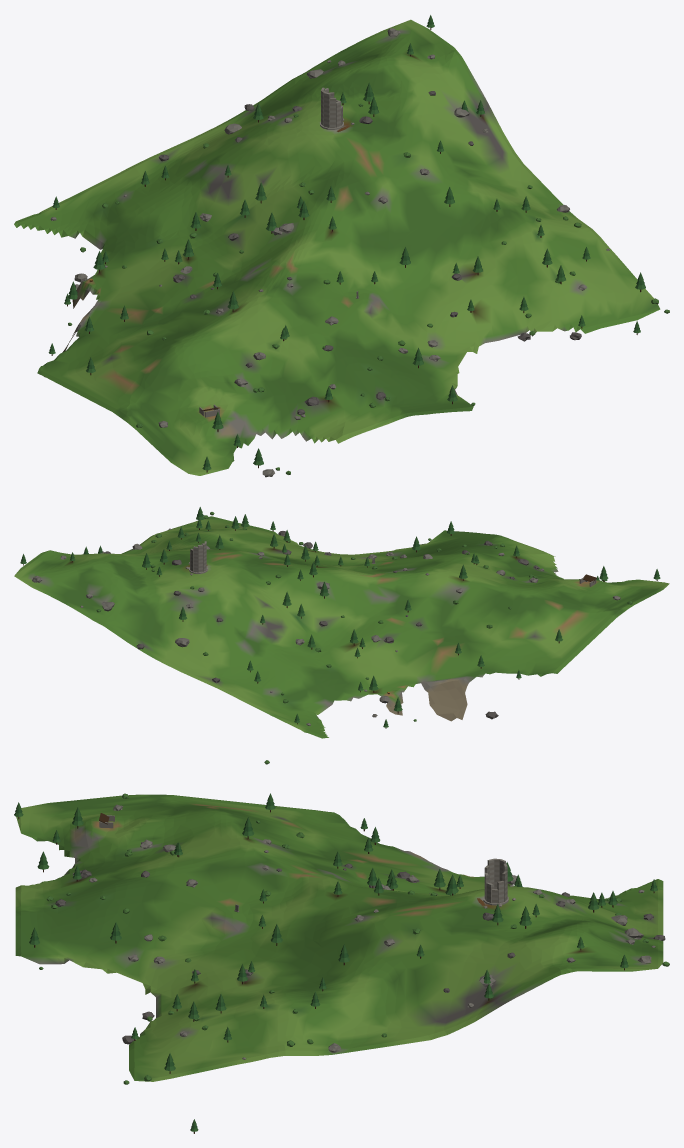
Rendered from arch_isl_lantern_rock_lod1.glb.
3 renders of one model, top to bottom at view 1: azimuth 30°, elevation 25°; view 2: azimuth 150°, elevation 25°; view 3: azimuth 270°, elevation 25°, orthographic. The views are drawn at different scales.
Parts seen in each view (by area): view 1: geometry_0; view 2: geometry_0; view 3: geometry_0.
Part boxes in pixels (left/top/right/bottom): geometry_0: left=14, top=15, right=669, bottom=477; geometry_0: left=14, top=507, right=669, bottom=764; geometry_0: left=14, top=793, right=669, bottom=1133.
Size of the model in its own units: 242 by 77.18 by 243.
